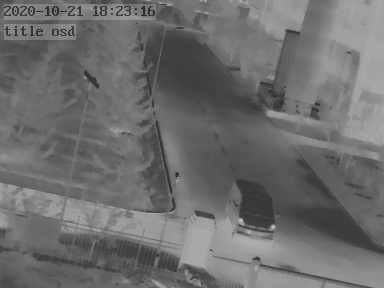vehicle: (225, 179, 282, 242)
